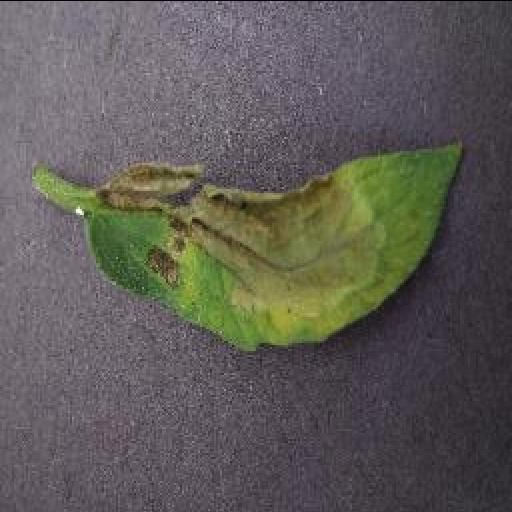disease_tomato: (82, 132, 466, 350)
